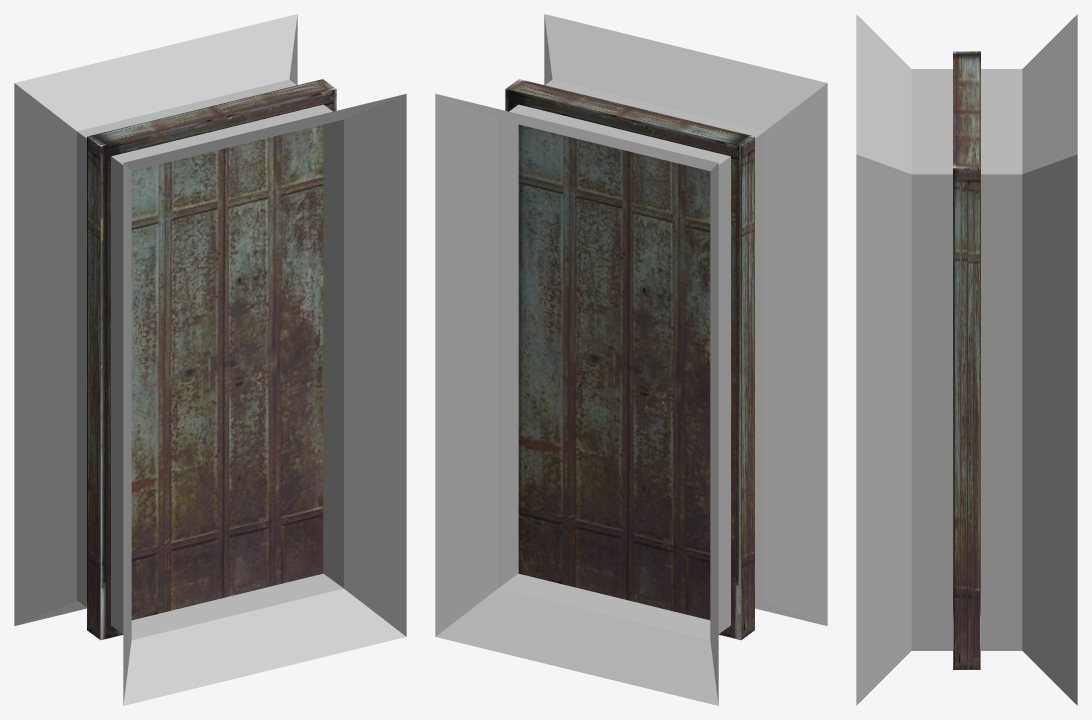
Rendered from IronDoor.FBX.
3 views of the same model, side by side, from view 1: azimuth 30°, elevation 25°; view 2: azimuth 150°, elevation 25°; view 3: azimuth 270°, elevation 25° (orthographic).
Parts seen in each view (by area): view 1: Plane009, Box001; view 2: Plane009, Box001; view 3: Plane009, Box001.
Part boxes in pixels (bbox=[...]): Plane009: bbox=[14, 14, 406, 705]; Box001: bbox=[87, 79, 336, 640]; Plane009: bbox=[435, 14, 827, 705]; Box001: bbox=[505, 79, 754, 640]; Plane009: bbox=[856, 14, 1077, 705]; Box001: bbox=[953, 51, 980, 669].
Size of the model in its own units: 240 by 440 by 160.
